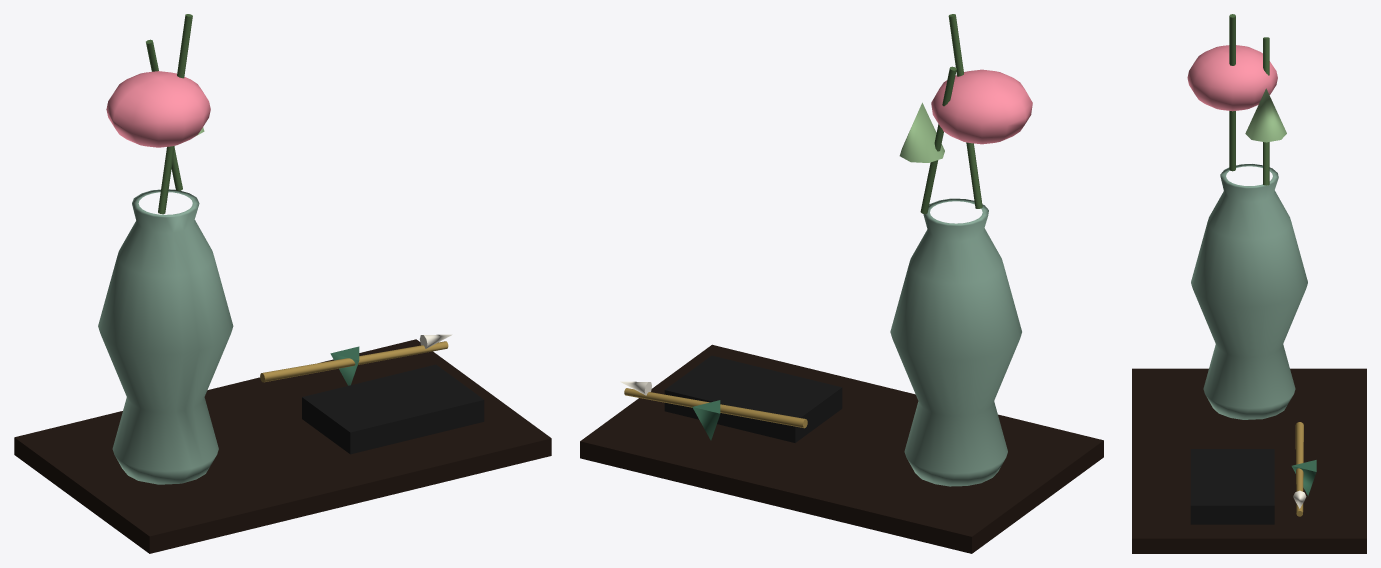
File: ban_tho_tho.glb
3 renders of one model, left to right at view 1: azimuth 30°, elevation 25°; view 2: azimuth 150°, elevation 25°; view 3: azimuth 270°, elevation 25°, orthographic. The views are drawn at different scales.
Visible parts, largest first — view 1: Lotus_Vase_Inkstone_Set; view 2: Lotus_Vase_Inkstone_Set; view 3: Lotus_Vase_Inkstone_Set.
Part boxes in pixels (x1=…): Lotus_Vase_Inkstone_Set: x1=14, y1=14, x2=551, y2=553; Lotus_Vase_Inkstone_Set: x1=580, y1=14, x2=1103, y2=553; Lotus_Vase_Inkstone_Set: x1=1132, y1=14, x2=1366, y2=553.
Size of the model in its own units: 0.48 by 0.5394 by 0.28.
